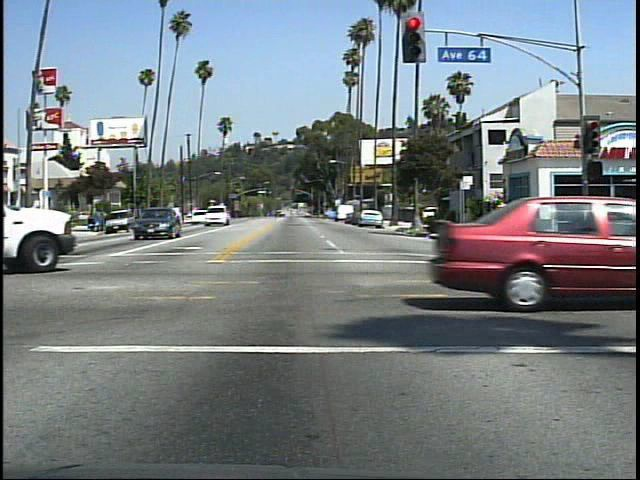person: (491, 195, 516, 244)
